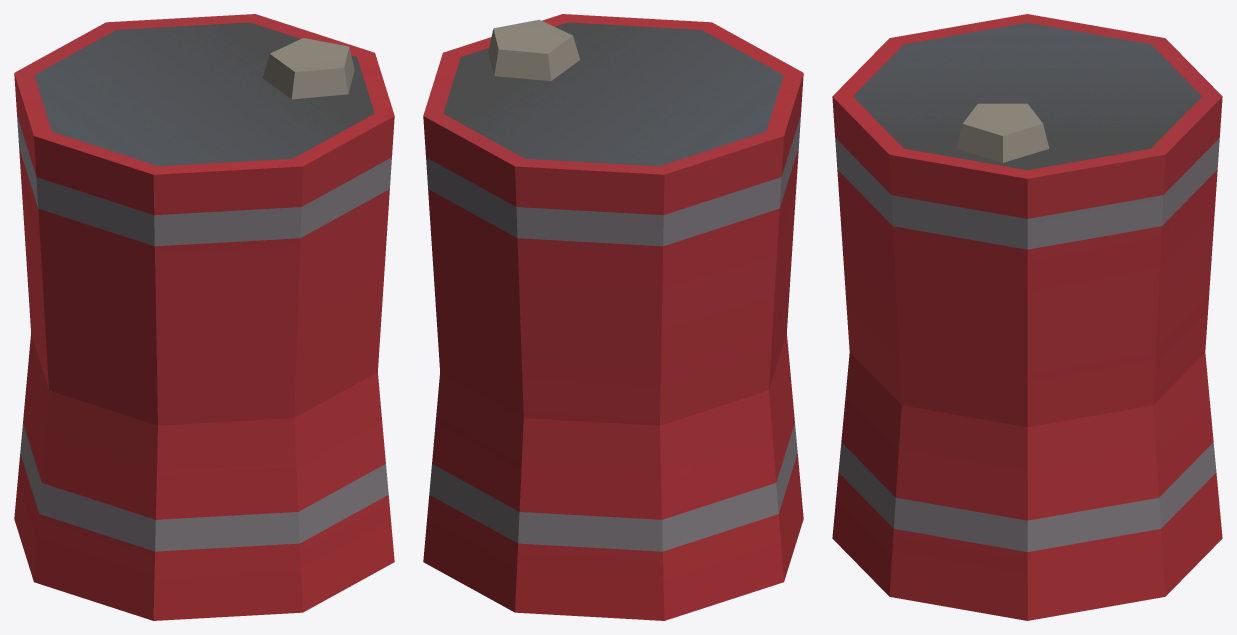
File: SM_Barrel_2D.FBX
3 renders of one model, left to right at view 1: azimuth 30°, elevation 25°; view 2: azimuth 150°, elevation 25°; view 3: azimuth 270°, elevation 25°, orthographic.
Parts seen in each view (by area): view 1: SM_Barrel_2D; view 2: SM_Barrel_2D; view 3: SM_Barrel_2D.
Part boxes in pixels (left/top/right/bottom): SM_Barrel_2D: left=14, top=14, right=394, bottom=620; SM_Barrel_2D: left=423, top=14, right=803, bottom=620; SM_Barrel_2D: left=832, top=14, right=1222, bottom=620.
Size of what is drawn, in the model's own units: 82.8 by 82.8 by 109.
